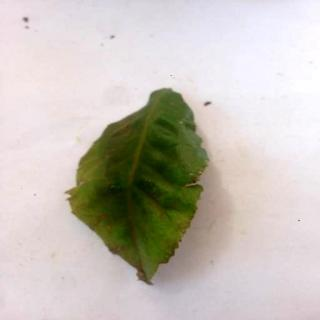Brown Blight: (66, 89, 211, 288)
